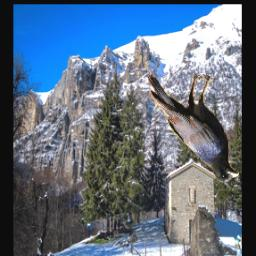Crow: (148, 74, 239, 183)
